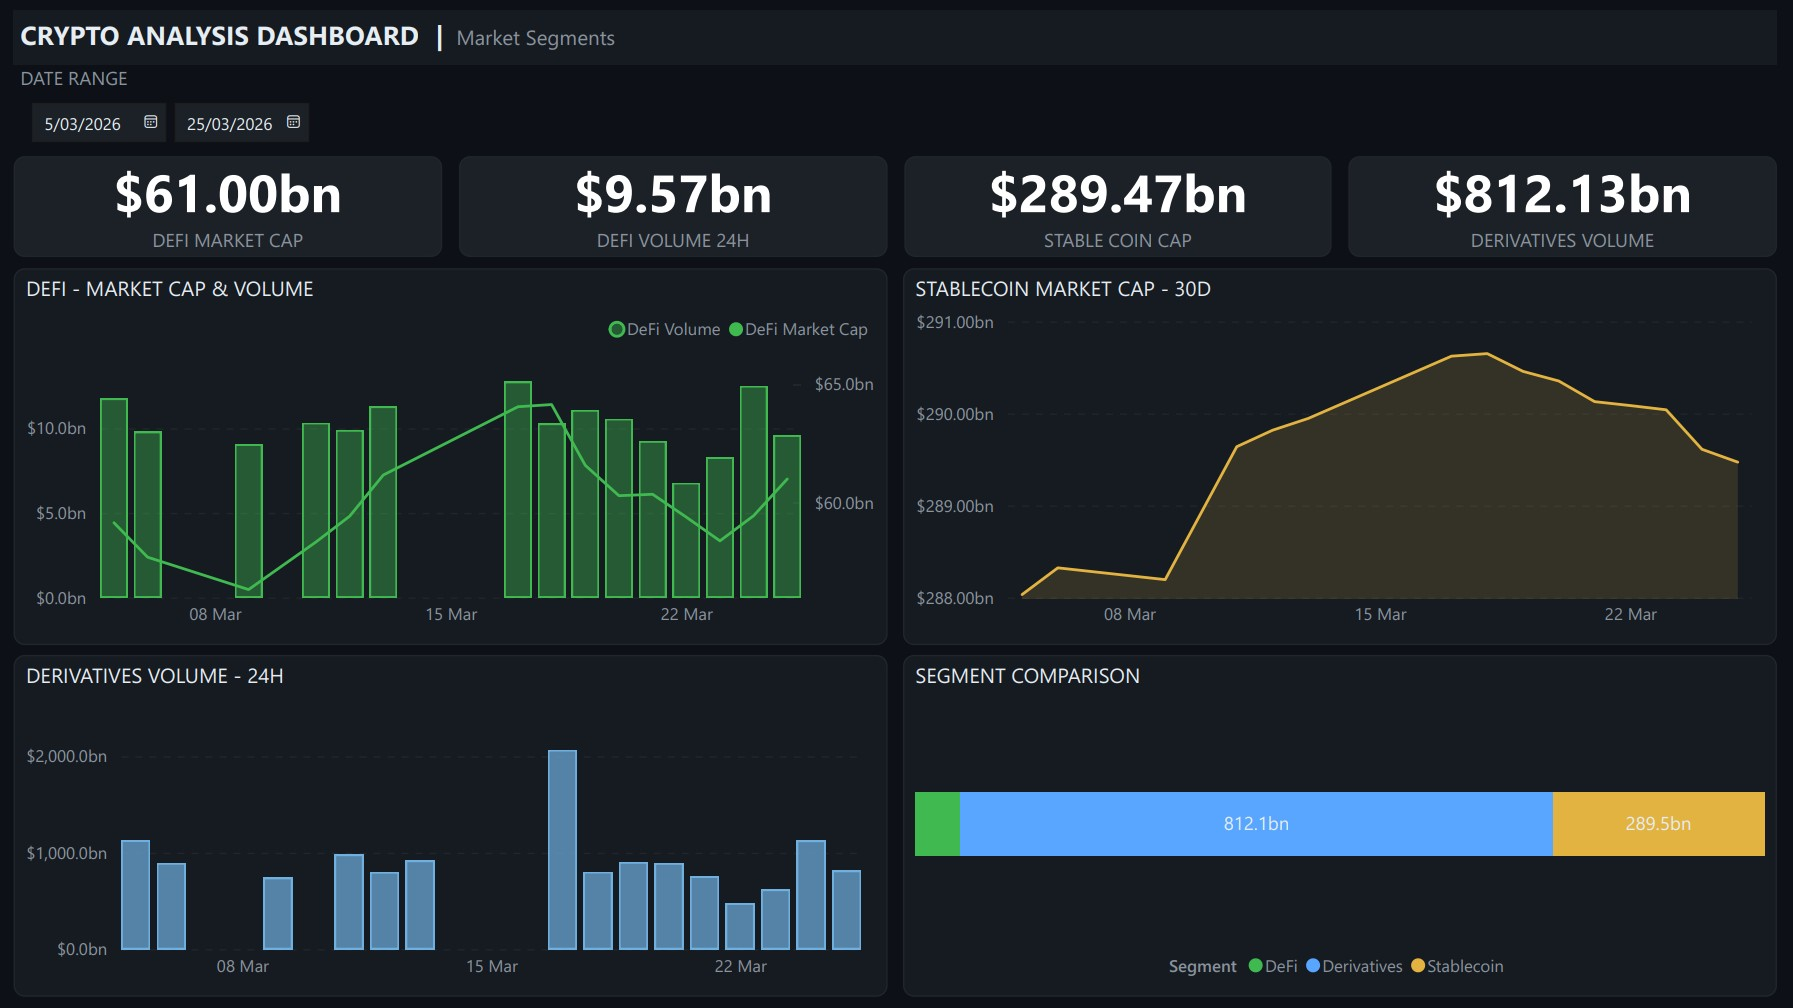

What the dashboard file says about the page in this screenshot:
{"tool":"powerbi","page":{"name":"Market Segments","canvas":[1280,720],"ordinal":3},"visuals":[{"type":"slicer","title":"DATE RANGE","fields":{"Values":["dim_date.Date"]},"box":[10,46,1259,65],"z":0},{"type":"cardVisual","fields":{"Data":["_Measures.Latest DeFi Market Cap"]},"box":[10,111,306,72],"z":1000},{"type":"cardVisual","fields":{"Data":["_Measures.Latest DeFi Volume 24H"]},"box":[328,111.1,305.7,71.7],"z":2000},{"type":"cardVisual","fields":{"Data":["_Measures.Latest Stablecoin Cap"]},"box":[645.6,111.1,305.7,71.7],"z":3000},{"type":"cardVisual","fields":{"Data":["_Measures.Latest Derivatives Volume"]},"box":[963,111,306,72],"z":4000},{"type":"lineClusteredColumnComboChart","title":"DEFI - MARKET CAP & VOLUME","fields":{"Category":["dim_date.Date"],"Y":["Max(fact_global_market.global_defi_volume_24h)"],"Y2":["Max(fact_global_market.global_defi_market_cap)"]},"box":[10,191,624,269],"z":5000},{"type":"areaChart","title":"STABLECOIN MARKET CAP - 30D","fields":{"Category":["dim_date.Date"],"Y":["Max(fact_global_market.global_stablecoin_market_cap)"]},"box":[645,191,624,269],"z":6000},{"type":"clusteredColumnChart","title":"DERIVATIVES VOLUME - 24H","fields":{"Category":["dim_date.Date"],"Y":["Sum(fact_global_market.global_derivatives_volume_24h)"]},"box":[10,467,624,244],"z":7000},{"type":"hundredPercentStackedBarChart","title":"SEGMENT COMPARISON","fields":{"Y":["_Measures.Segment Value"],"Series":["Segment Labels.Segment"]},"box":[645,467,624,244],"z":8000},{"type":"textbox","box":[10,7,1259,39],"z":9000}]}

Visuals, with their boxes in screenshot pixels (x1, y1, x2, y2), scaled from the page's 1280x720 canvas onto the 1793x1008 screenshot:
"DATE RANGE" slicer: <box>14,64,1778,155</box>
cardVisual - _Measures.Latest DeFi Market Cap: <box>14,155,443,256</box>
cardVisual - _Measures.Latest DeFi Volume 24H: <box>459,156,888,256</box>
cardVisual - _Measures.Latest Stablecoin Cap: <box>904,156,1333,256</box>
cardVisual - _Measures.Latest Derivatives Volume: <box>1349,155,1778,256</box>
"DEFI - MARKET CAP & VOLUME" lineClusteredColumnComboChart: <box>14,267,888,644</box>
"STABLECOIN MARKET CAP - 30D" areaChart: <box>904,267,1778,644</box>
"DERIVATIVES VOLUME - 24H" clusteredColumnChart: <box>14,654,888,995</box>
"SEGMENT COMPARISON" hundredPercentStackedBarChart: <box>904,654,1778,995</box>
textbox: <box>14,10,1778,64</box>
